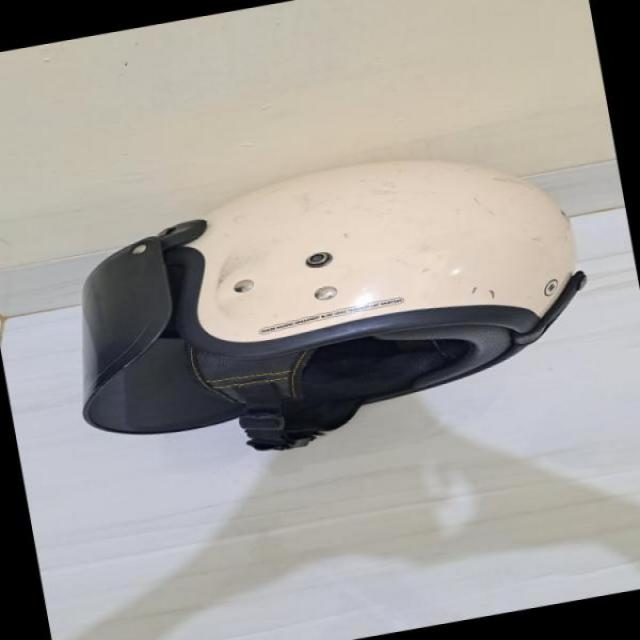Helmet: (67, 149, 589, 467)
